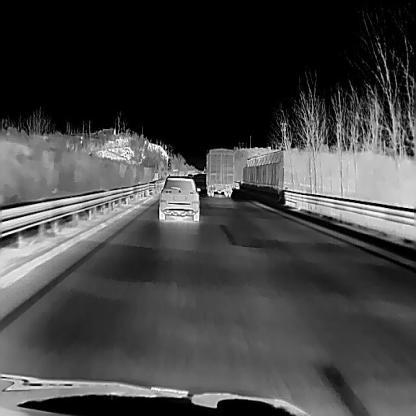car: (158, 175, 200, 221), (203, 146, 235, 196)
